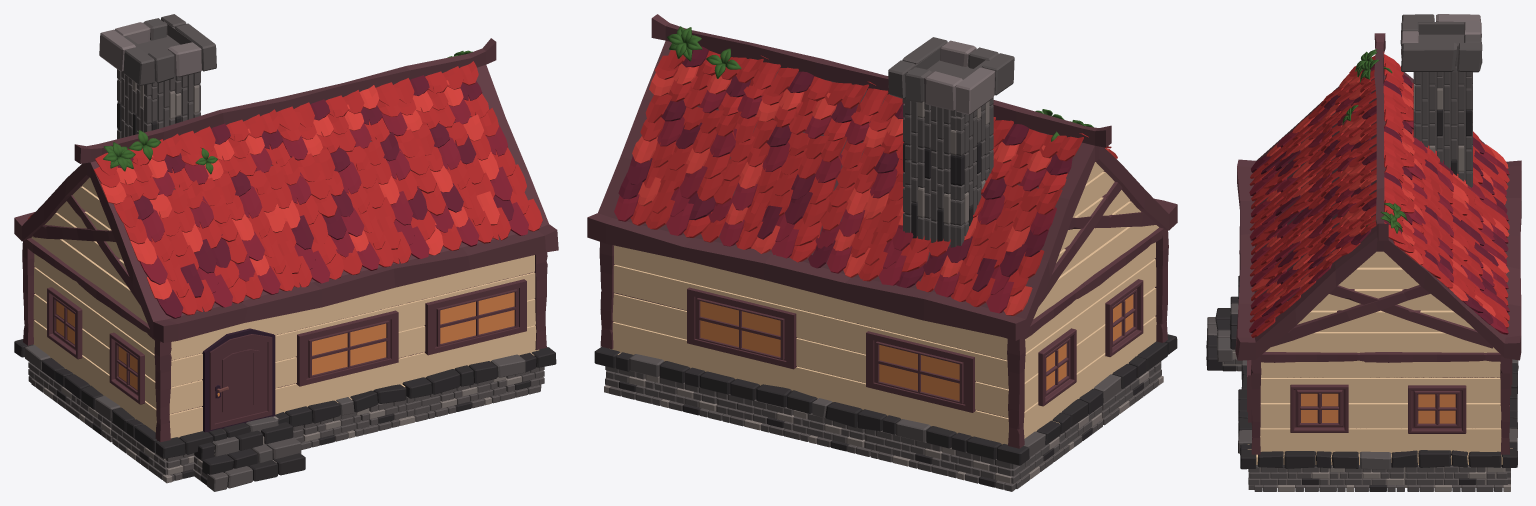
Rendered from casa-madeira12.fbx.
The picture shows the model from 3 angles, left to right: view 1: azimuth 30°, elevation 25°; view 2: azimuth 150°, elevation 25°; view 3: azimuth 270°, elevation 25°; orthographic projection. The views are drawn at different scales.
Parts seen in each view (by area): view 1: contorno porta.019, porta.021; view 2: contorno porta.019; view 3: contorno porta.019.
Part boxes in pixels (left/top/right/bottom): contorno porta.019: left=14, top=14, right=558, bottom=491; porta.021: left=209, top=334, right=272, bottom=429; contorno porta.019: left=587, top=14, right=1177, bottom=491; contorno porta.019: left=1206, top=14, right=1521, bottom=491.
Size of the model in its own units: 687 by 547 by 474.
